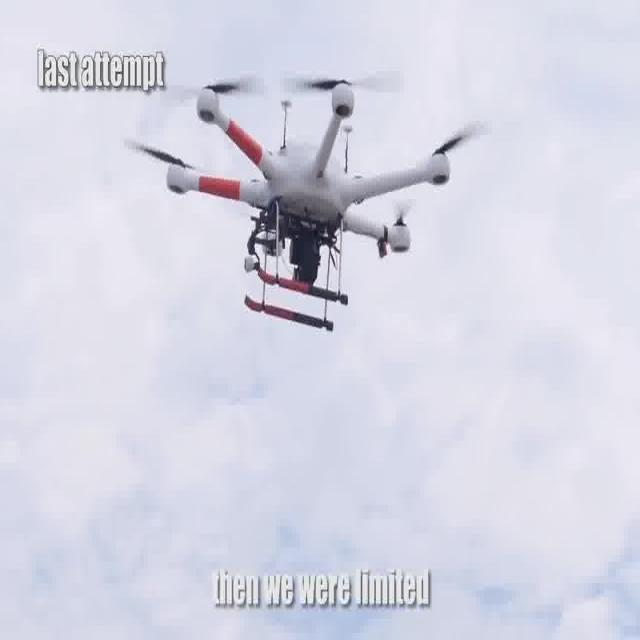drone: (125, 28, 496, 352)
